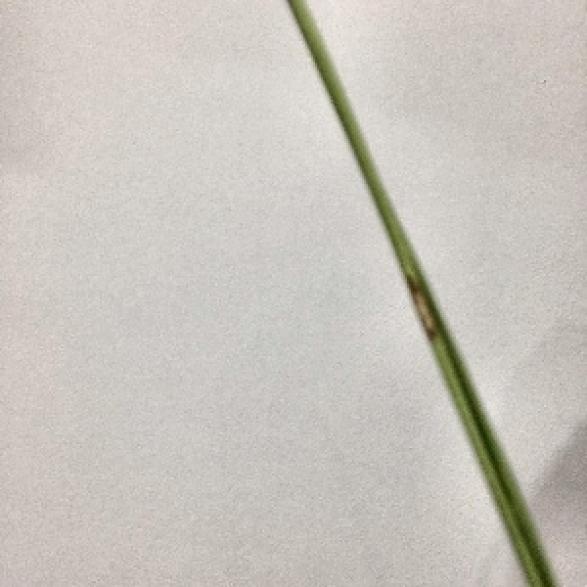Leaf_smut: (397, 258, 448, 354)
